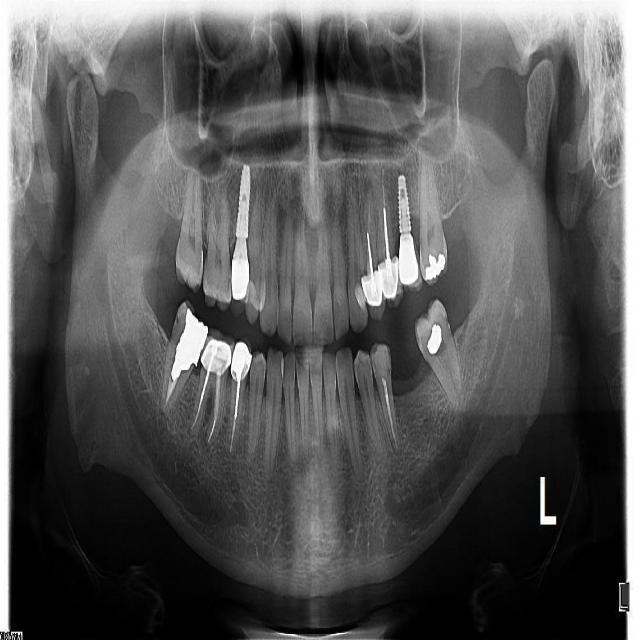55: (235, 168, 250, 240), (397, 174, 411, 234)
71: (197, 340, 219, 406), (378, 208, 394, 282), (362, 230, 378, 302), (232, 373, 241, 420)
74: (380, 374, 398, 454), (208, 376, 224, 442), (190, 393, 205, 429), (165, 375, 179, 406), (231, 412, 236, 452)
NucleOSS Implant: (168, 307, 213, 385), (424, 322, 446, 359), (424, 252, 445, 281)
Sterngold Implant: (440, 313, 453, 335), (224, 269, 231, 298), (416, 331, 422, 346)
Straumann Implant: (372, 343, 395, 377), (352, 280, 370, 312), (244, 278, 259, 310)
Zimmer Implant: (197, 327, 239, 377), (229, 237, 253, 319), (359, 268, 390, 323), (376, 255, 407, 308), (397, 234, 422, 292), (230, 337, 254, 384)
